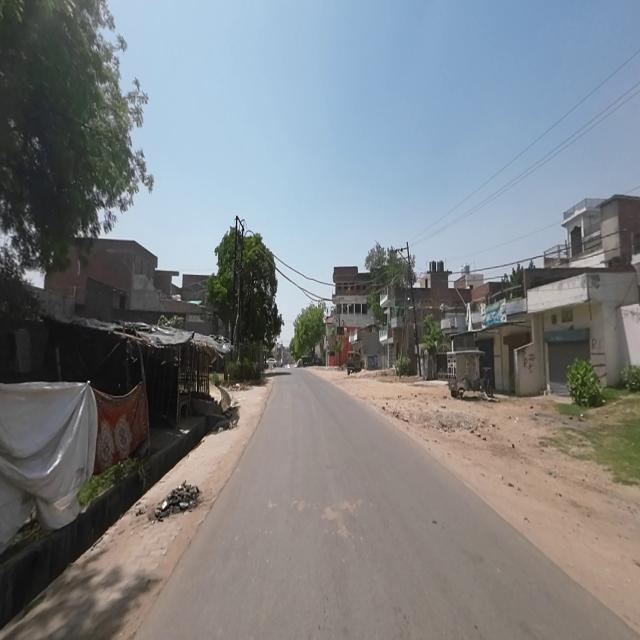Garbage: (154, 483, 201, 520)
